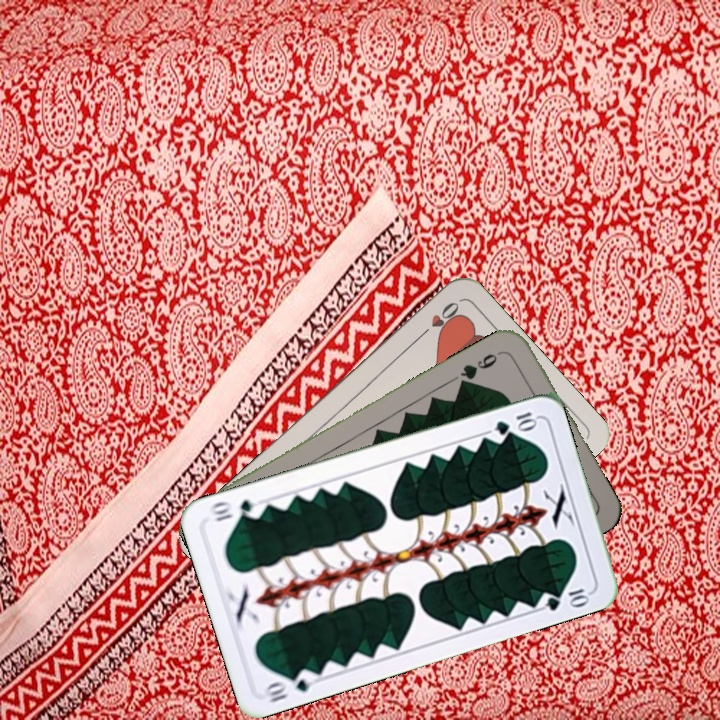G10: (259, 665, 319, 705), (491, 407, 540, 438)
G9: (456, 346, 507, 387)
HO: (414, 297, 464, 341)
